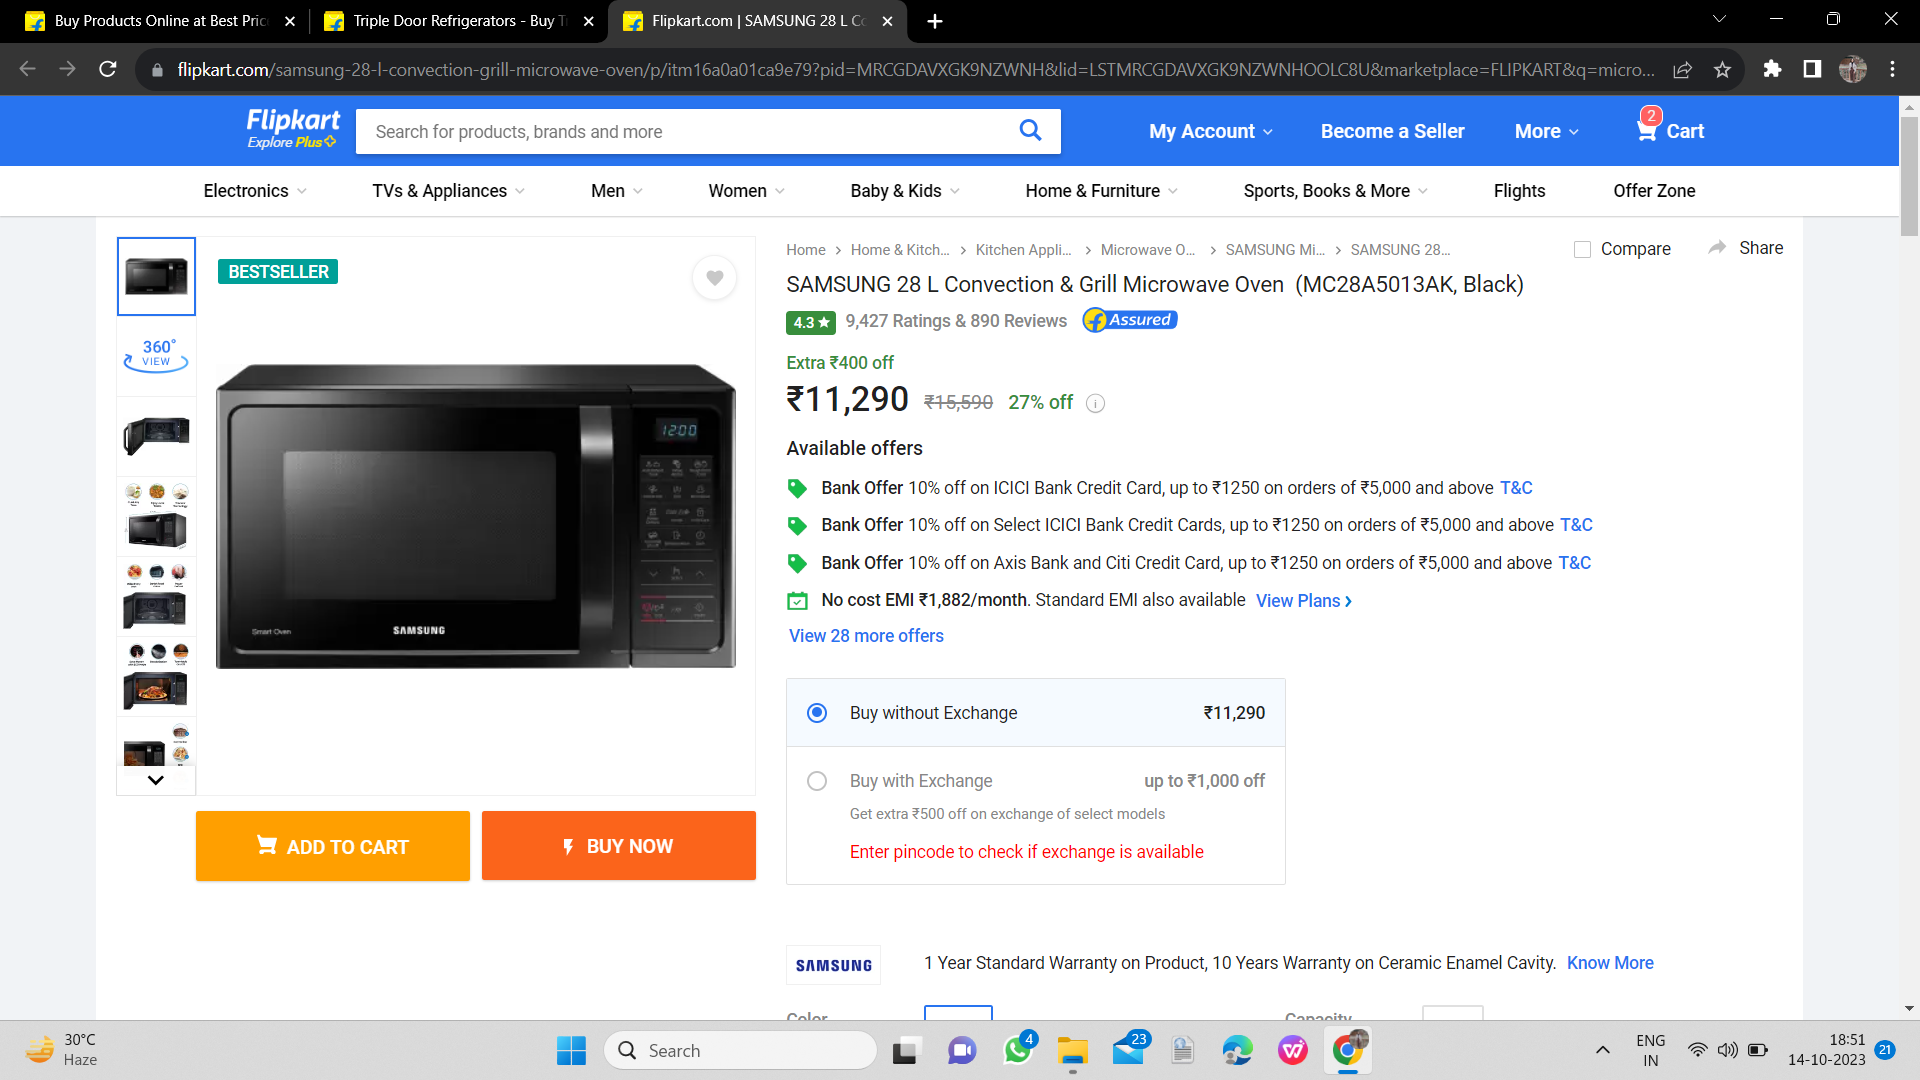Image: (204, 237, 750, 746), (351, 103, 1075, 158)
Paragraph: (783, 472, 1604, 641), (186, 798, 764, 893), (804, 764, 1275, 868), (786, 942, 1561, 993), (1122, 102, 1716, 157), (800, 686, 1282, 737), (783, 269, 1534, 302), (779, 349, 1112, 418), (774, 306, 1183, 339), (781, 442, 926, 459)
